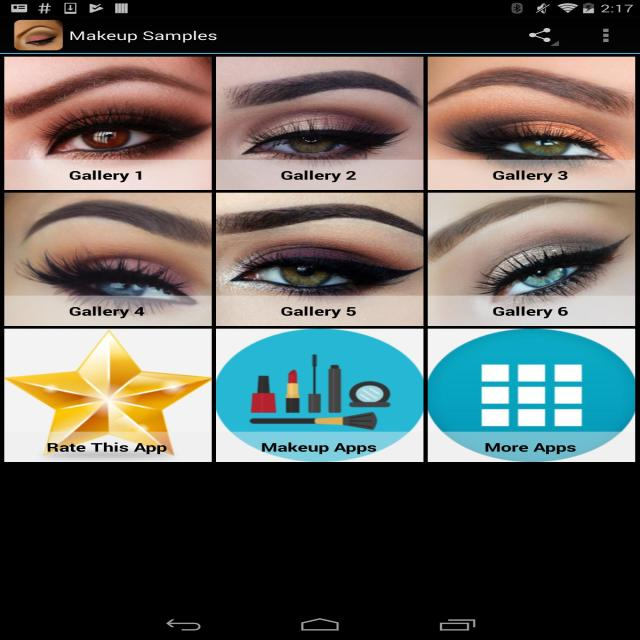button: (529, 24, 560, 49), (596, 22, 618, 48)
heading: (68, 29, 224, 44)
image: (428, 327, 636, 463), (5, 328, 212, 464), (217, 328, 424, 464), (429, 190, 633, 326), (428, 56, 635, 190), (5, 56, 210, 189), (217, 59, 423, 191), (6, 193, 212, 325), (218, 192, 422, 325), (12, 20, 64, 51)
